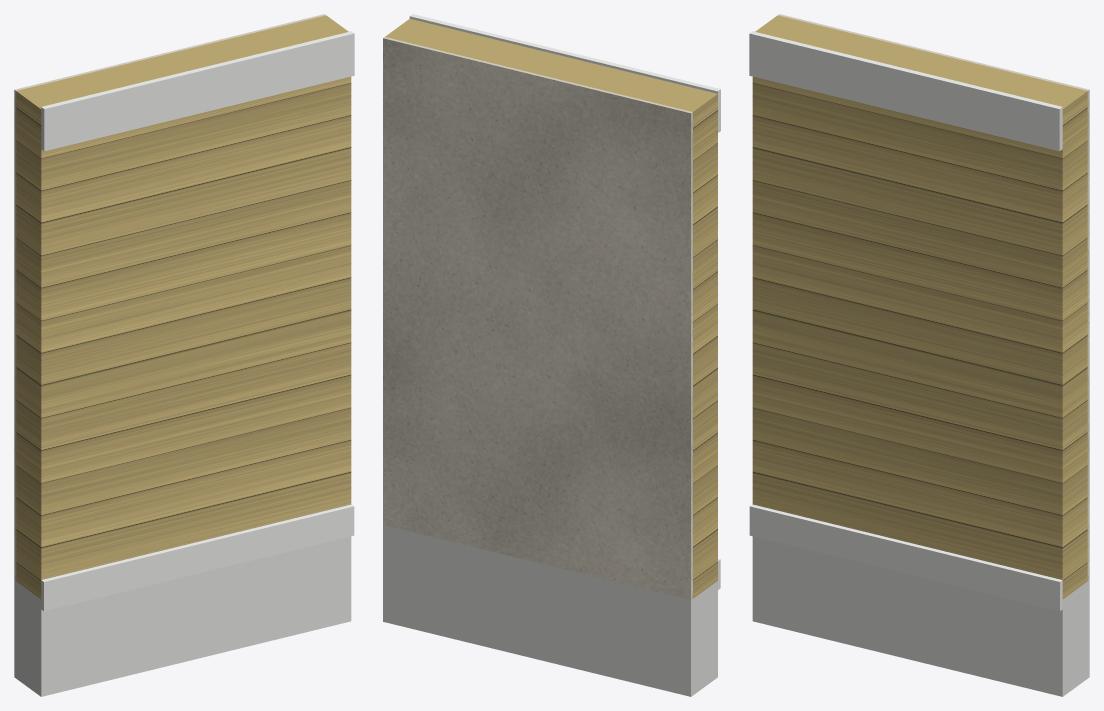
File: wall_b_plain.glb
3 renders of one model, left to right at view 1: azimuth 30°, elevation 25°; view 2: azimuth 150°, elevation 25°; view 3: azimuth 330°, elevation 25°, orthographic.
Visible parts, largest first — view 1: wall_b_plain_siding_b, wall_b_plain_lattice, wall_b_plain_trim, wall_b_plain_plaster; view 2: wall_b_plain_plaster, wall_b_plain_lattice, wall_b_plain_siding_b, wall_b_plain_trim; view 3: wall_b_plain_siding_b, wall_b_plain_lattice, wall_b_plain_trim, wall_b_plain_plaster.
Boxes of the visible parts, bbox=[...] form: wall_b_plain_siding_b: bbox=[16, 15, 351, 599]; wall_b_plain_lattice: bbox=[14, 536, 351, 696]; wall_b_plain_trim: bbox=[41, 31, 354, 611]; wall_b_plain_plaster: bbox=[14, 14, 325, 580]; wall_b_plain_plaster: bbox=[383, 37, 692, 599]; wall_b_plain_lattice: bbox=[383, 525, 717, 696]; wall_b_plain_siding_b: bbox=[385, 19, 717, 598]; wall_b_plain_trim: bbox=[409, 14, 720, 589]; wall_b_plain_siding_b: bbox=[752, 15, 1087, 599]; wall_b_plain_lattice: bbox=[752, 536, 1089, 696]; wall_b_plain_trim: bbox=[749, 31, 1062, 611]; wall_b_plain_plaster: bbox=[778, 14, 1089, 580].
Bounding box in the file's own units: 2 × 3.63 × 0.335.
4 materials, 2 textured.
